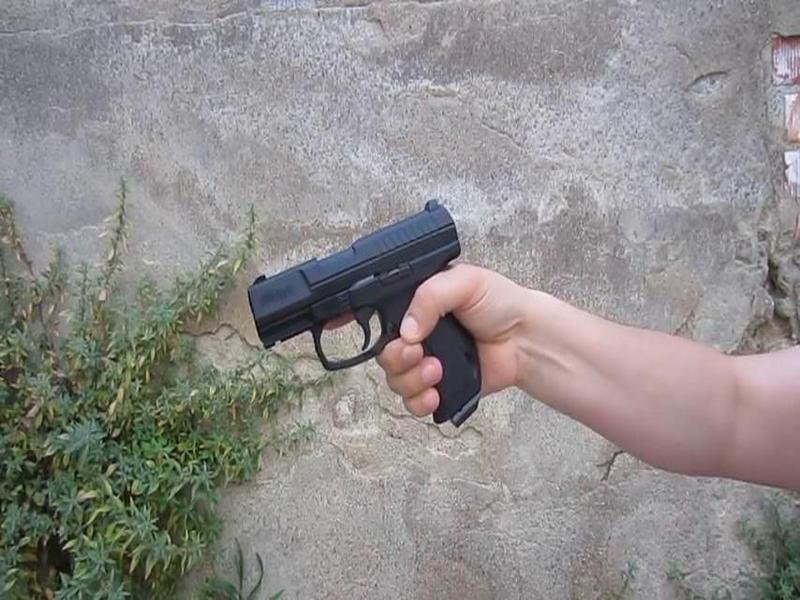Pistola: (231, 187, 505, 448)
